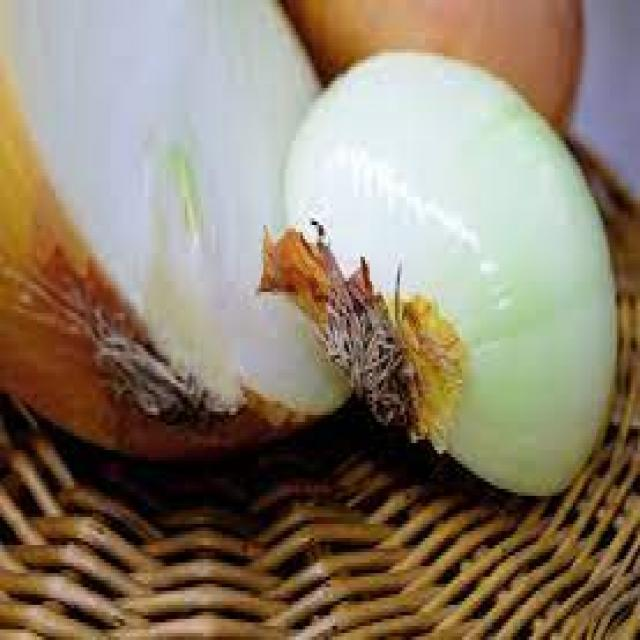Onion: (260, 49, 620, 498), (3, 0, 357, 454), (282, 2, 584, 135)
